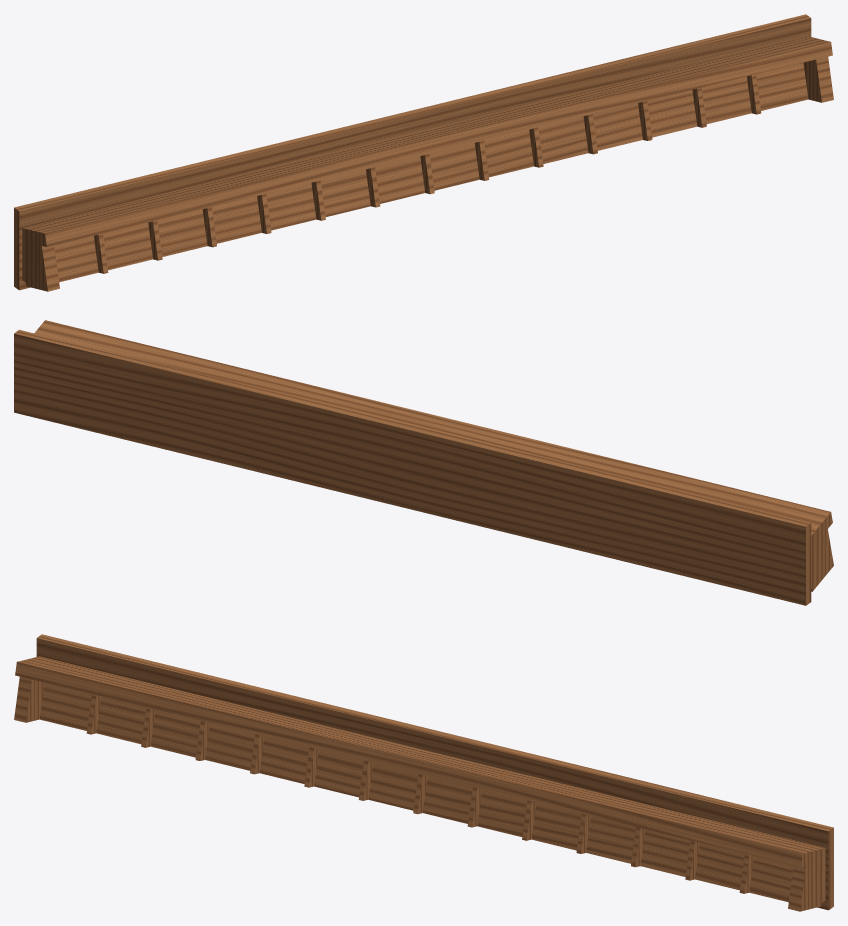
The model's file is rack.obj.
The picture shows the model from 3 angles, top to bottom: view 1: azimuth 30°, elevation 25°; view 2: azimuth 150°, elevation 25°; view 3: azimuth 330°, elevation 25°; orthographic projection.
Visible parts, largest first — view 1: rack_wood; view 2: rack_wood; view 3: rack_wood.
Boxes of the visible parts, x1=… form: rack_wood: x1=14, y1=14, x2=833, y2=291; rack_wood: x1=14, y1=320, x2=833, y2=605; rack_wood: x1=14, y1=634, x2=833, y2=911.
Size of the model in its own units: 0.524 by 0.05 by 0.0354.
Materials: 1 (1 with a texture image).
